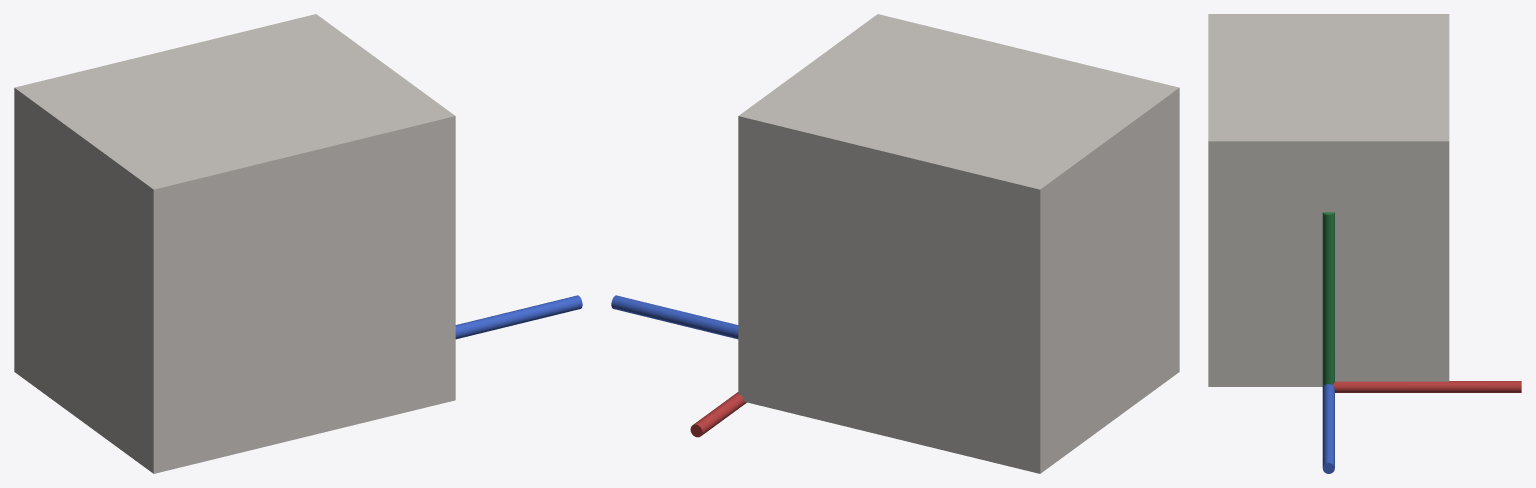
Rendered from start_face_axes.glb.
3 renders of one model, left to right at view 1: azimuth 30°, elevation 25°; view 2: azimuth 150°, elevation 25°; view 3: azimuth 270°, elevation 25°, orthographic. The views are drawn at different scales.
Visible parts, largest first — view 1: block, face_Z; view 2: block, face_Z, face_X; view 3: block, face_X, face_Y, face_Z.
Part boxes in pixels (box(x1,y1,x2,y2)): block: box(14, 14, 455, 473); face_Z: box(455, 295, 582, 339); block: box(738, 14, 1179, 473); face_Z: box(611, 295, 738, 339); face_X: box(690, 392, 746, 437); block: box(1208, 14, 1449, 386); face_X: box(1333, 381, 1521, 392); face_Y: box(1322, 212, 1334, 386); face_Z: box(1322, 384, 1334, 473).
Bounding box in the file's own units: 0.082 × 0.046 × 0.052.
